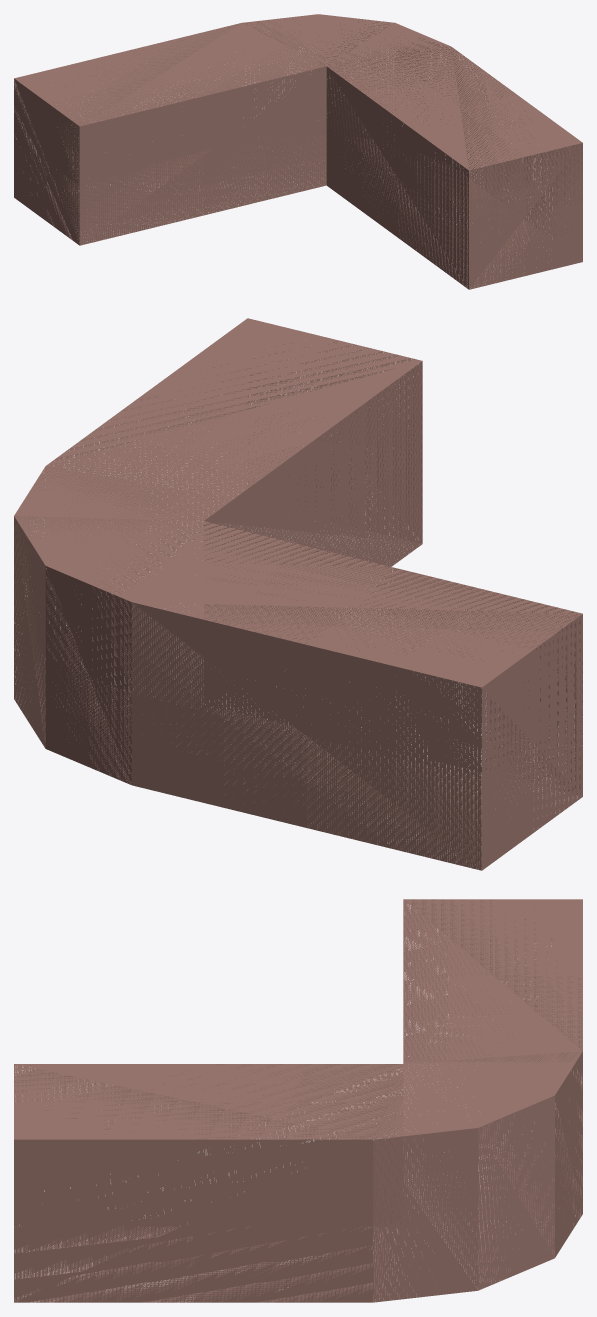
Rendered from SW_ENV_PipeCrnrMedium_Collision.fbx.
3 views of the same model, one above another, from view 1: azimuth 30°, elevation 25°; view 2: azimuth 150°, elevation 25°; view 3: azimuth 270°, elevation 25° (orthographic). The views are drawn at different scales.
Visible parts, largest first — view 1: SW_ENV_PipeCrnrMedium_Collision; view 2: SW_ENV_PipeCrnrMedium_Collision; view 3: SW_ENV_PipeCrnrMedium_Collision.
Part boxes in pixels (left/top/right/bottom): SW_ENV_PipeCrnrMedium_Collision: left=14, top=14, right=582, bottom=289; SW_ENV_PipeCrnrMedium_Collision: left=14, top=318, right=582, bottom=870; SW_ENV_PipeCrnrMedium_Collision: left=14, top=899, right=582, bottom=1302.
Size of the model in its own units: 47.5 by 15 by 47.5.
